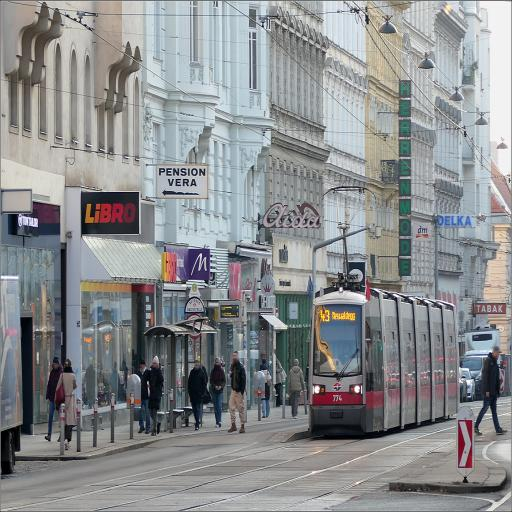ULF: (308, 282, 459, 436)
